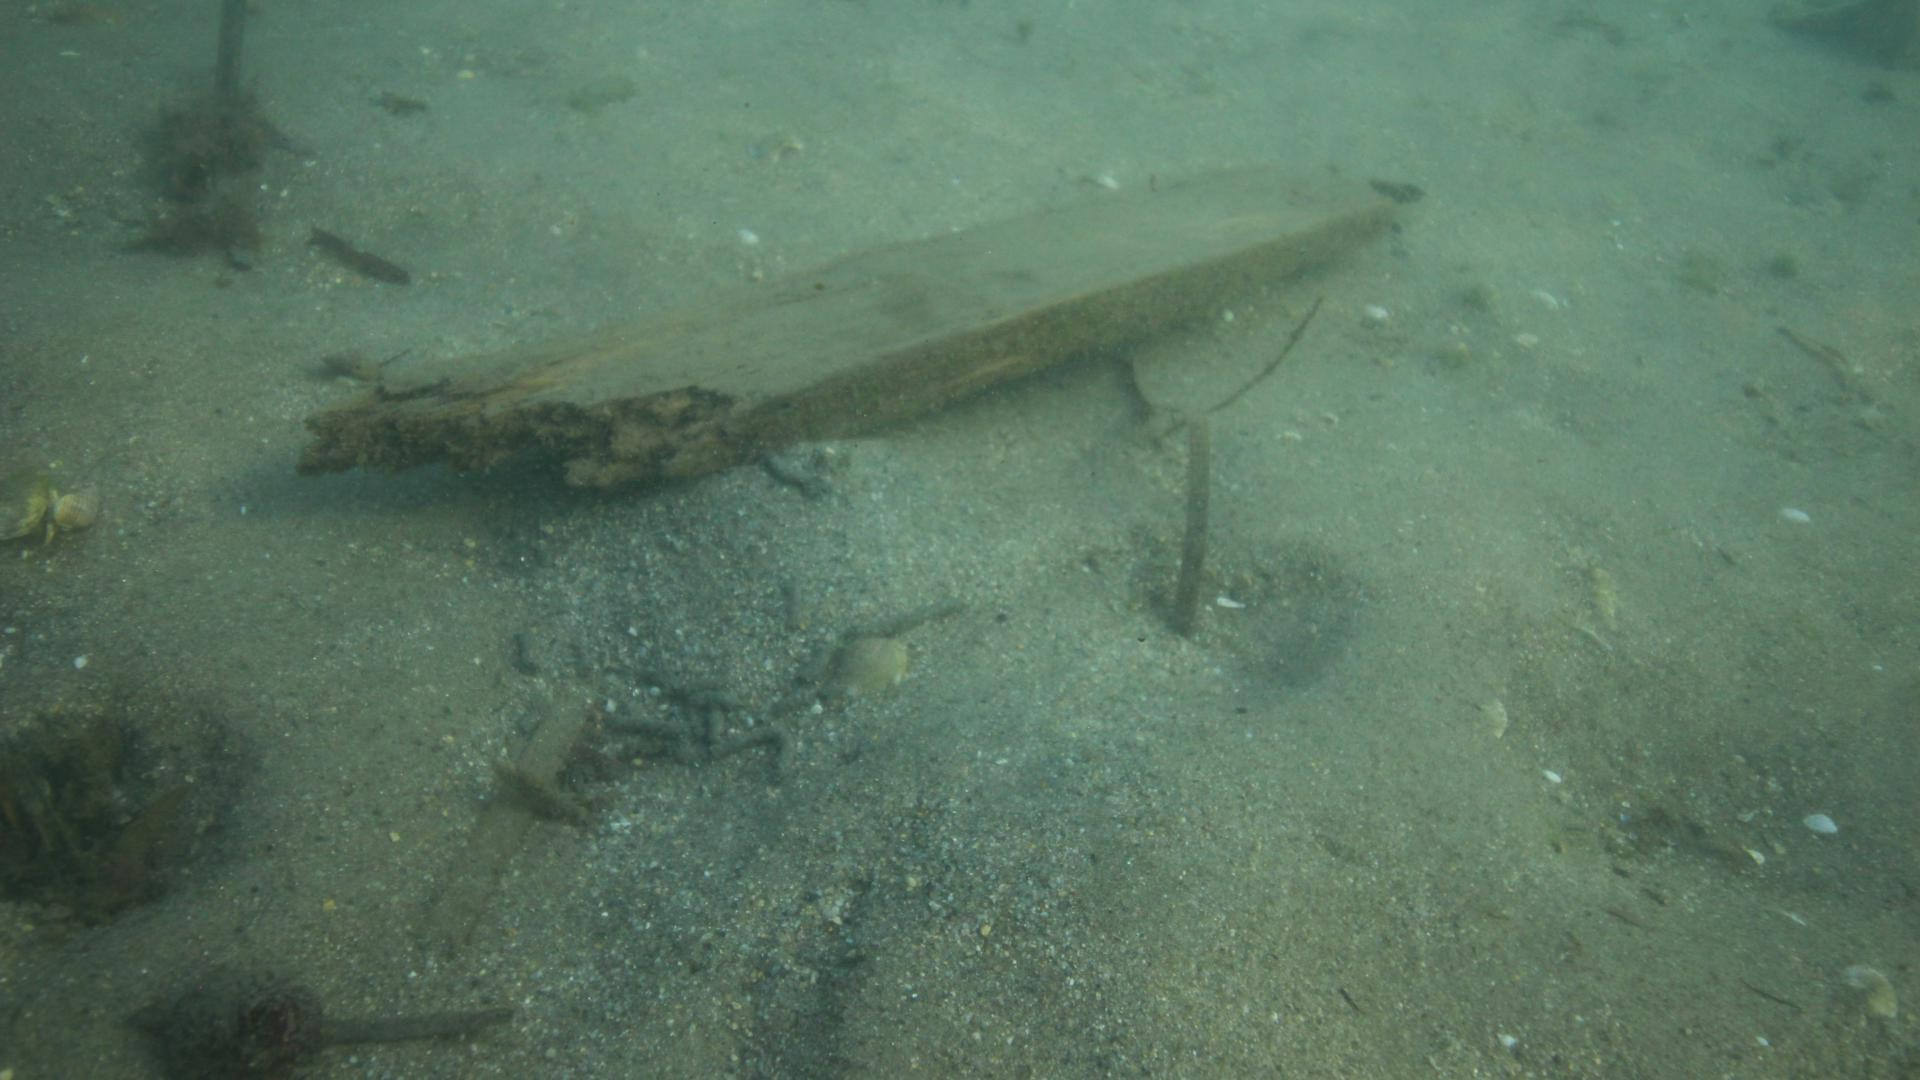wood: (294, 158, 1404, 489)
